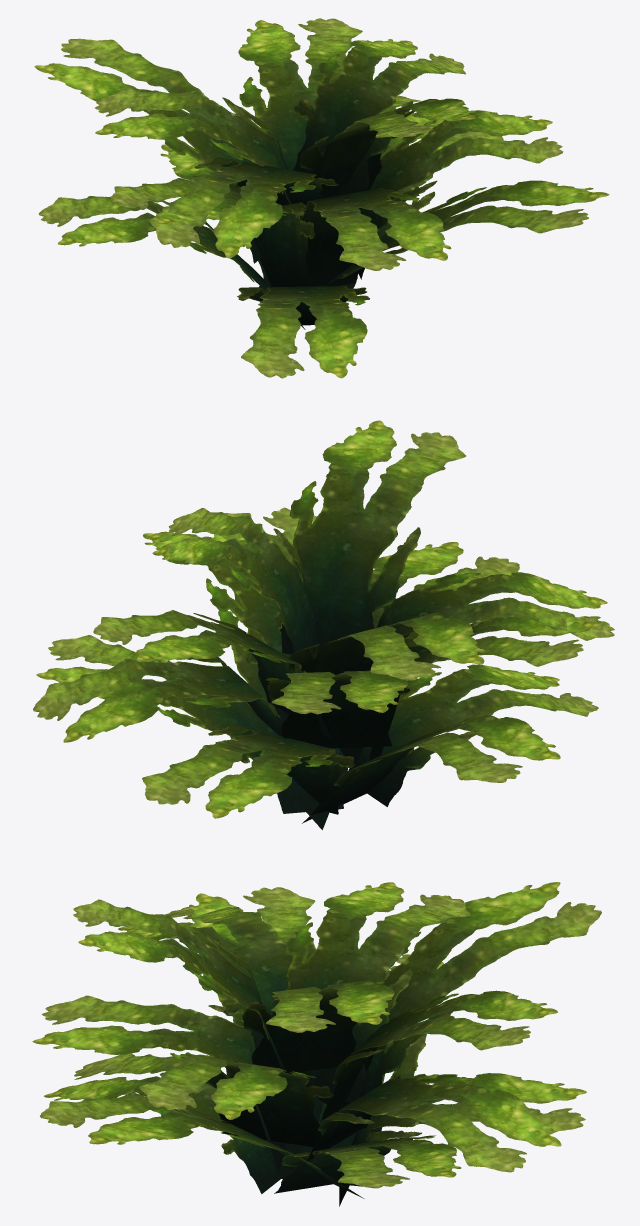
Rendered from environment_grass_seahaicao_001_b.FBX.
3 views of the same model, one above another, from view 1: azimuth 30°, elevation 25°; view 2: azimuth 150°, elevation 25°; view 3: azimuth 270°, elevation 25° (orthographic). The views are drawn at different scales.
Parts seen in each view (by area): view 1: environment_grass_seahaicao_001_b; view 2: environment_grass_seahaicao_001_b; view 3: environment_grass_seahaicao_001_b.
Part boxes in pixels (<box>): environment_grass_seahaicao_001_b: <box>34,18,609,378</box>; environment_grass_seahaicao_001_b: <box>33,420,614,829</box>; environment_grass_seahaicao_001_b: <box>32,882,601,1206</box>.
Size of the model in its own units: 120 by 61.15 by 121.
1 material, 1 textured.
